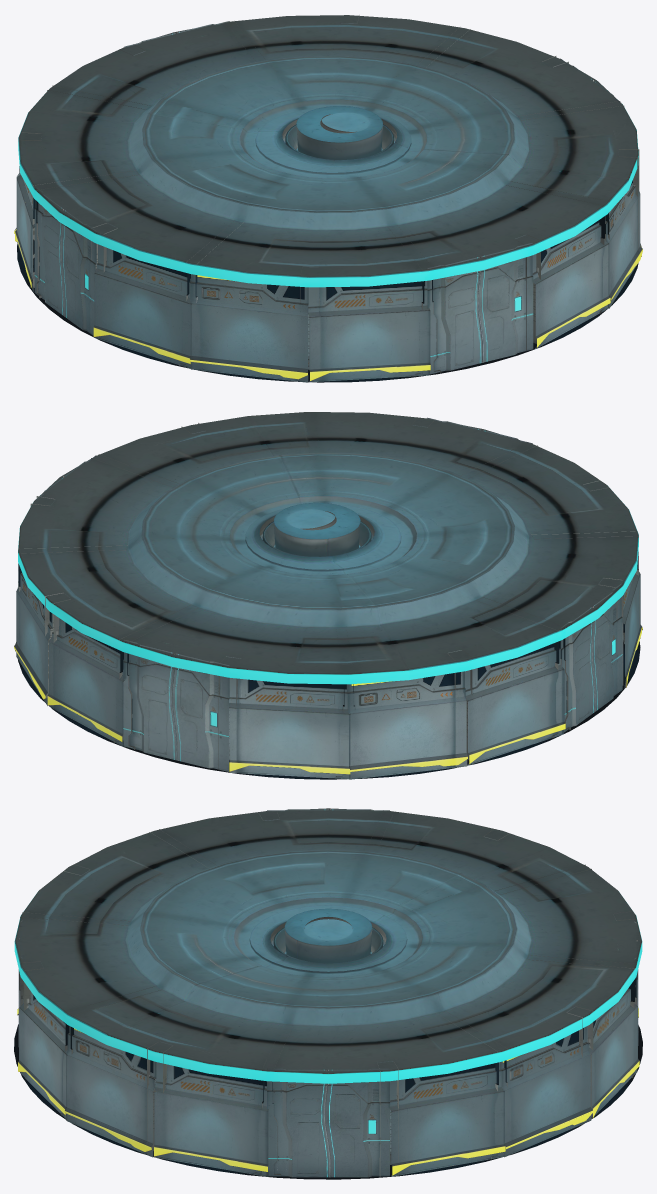
File: room3_dark.glb
3 renders of one model, top to bottom at view 1: azimuth 30°, elevation 25°; view 2: azimuth 150°, elevation 25°; view 3: azimuth 270°, elevation 25°, orthographic.
Parts seen in each view (by area): view 1: Scifi_Ceiling_Floor_Baked, Scifi_Wall01.001_Baked, Scifi_Door.001_Baked, Scifi_Wall02.001_Baked, Scifi_Pilllar01.001_Baked, Scifi_Pilllar02.001_Baked; view 2: Scifi_Ceiling_Floor_Baked, Scifi_Wall01.001_Baked, Scifi_Door.001_Baked, Scifi_Wall02.001_Baked, Scifi_Pilllar01.001_Baked, Scifi_Pilllar02.001_Baked; view 3: Scifi_Ceiling_Floor_Baked, Scifi_Wall01.001_Baked, Scifi_Wall02.001_Baked, Scifi_Door.001_Baked, Scifi_Pilllar02.001_Baked, Scifi_Pilllar01.001_Baked.
Boxes of the visible parts, x1=… form: Scifi_Ceiling_Floor_Baked: x1=17, y1=15, x2=638, y2=382; Scifi_Wall01.001_Baked: x1=15, y1=175, x2=641, y2=382; Scifi_Door.001_Baked: x1=34, y1=21, x2=621, y2=374; Scifi_Wall02.001_Baked: x1=14, y1=166, x2=642, y2=382; Scifi_Pilllar01.001_Baked: x1=30, y1=21, x2=624, y2=376; Scifi_Pilllar02.001_Baked: x1=20, y1=15, x2=639, y2=369; Scifi_Ceiling_Floor_Baked: x1=18, y1=412, x2=640, y2=779; Scifi_Wall01.001_Baked: x1=15, y1=572, x2=641, y2=779; Scifi_Door.001_Baked: x1=35, y1=417, x2=622, y2=771; Scifi_Wall02.001_Baked: x1=14, y1=571, x2=642, y2=779; Scifi_Pilllar01.001_Baked: x1=18, y1=443, x2=639, y2=778; Scifi_Pilllar02.001_Baked: x1=30, y1=418, x2=623, y2=769; Scifi_Ceiling_Floor_Baked: x1=14, y1=808, x2=642, y2=1179; Scifi_Wall01.001_Baked: x1=17, y1=988, x2=639, y2=1176; Scifi_Wall02.001_Baked: x1=64, y1=1026, x2=592, y2=1157; Scifi_Door.001_Baked: x1=18, y1=808, x2=638, y2=1177; Scifi_Pilllar02.001_Baked: x1=20, y1=813, x2=636, y2=1176; Scifi_Pilllar01.001_Baked: x1=20, y1=827, x2=636, y2=1175.
Size of the model in its own units: 79.76 by 18.03 by 79.76.
7 materials, 7 textured.
